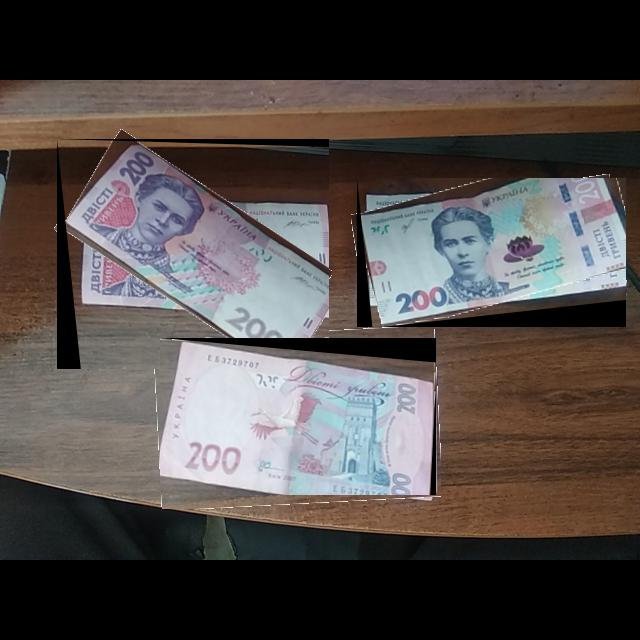200uah: (65, 142, 330, 370), (160, 340, 435, 496), (361, 178, 627, 327)
